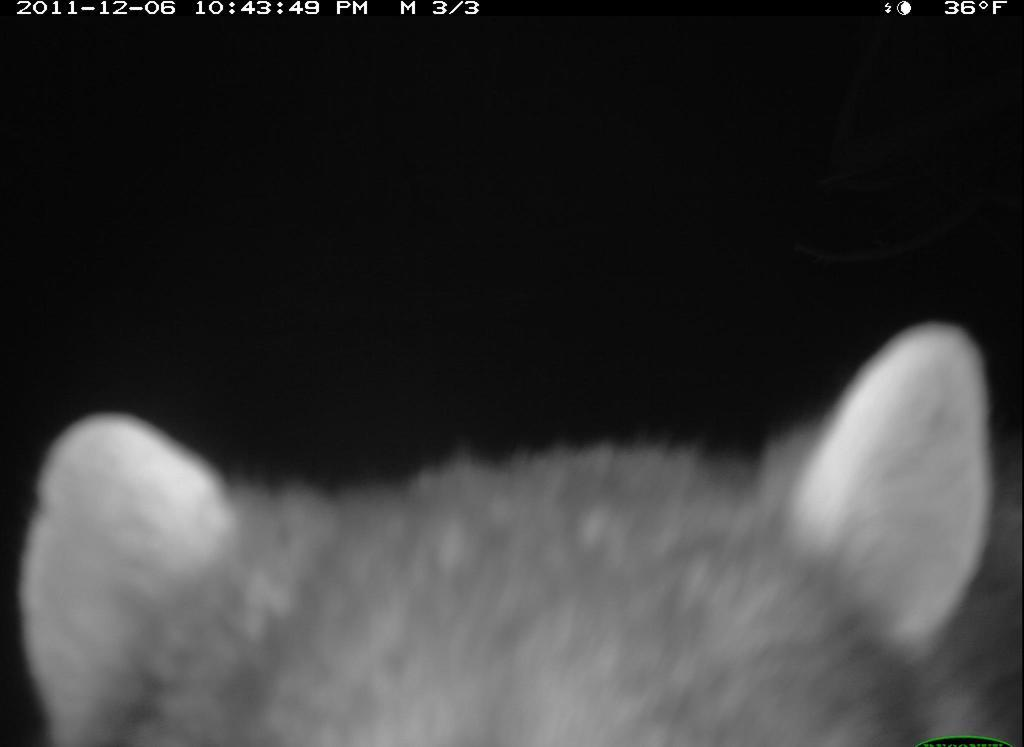raccoon: (13, 318, 1022, 747)
